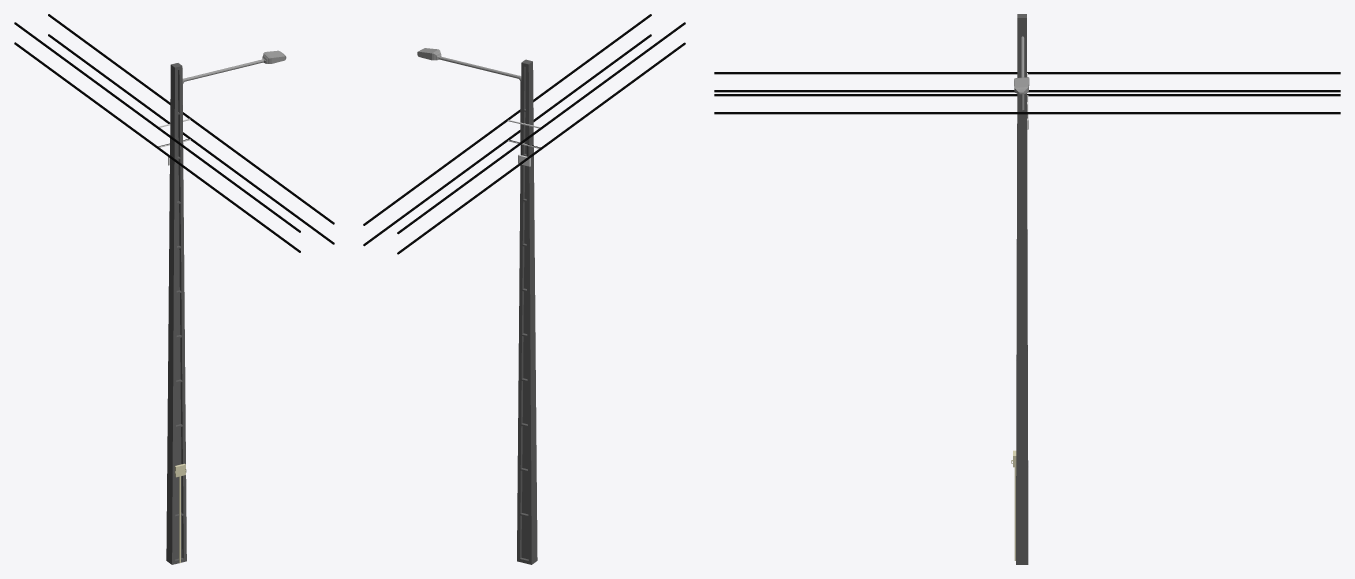
The model's file is PoteauTEst.fbx.
3 renders of one model, left to right at view 1: azimuth 30°, elevation 25°; view 2: azimuth 150°, elevation 25°; view 3: azimuth 270°, elevation 25°, orthographic. The views are drawn at different scales.
Parts seen in each view (by area): view 1: Cube, Cable.002, Cable.003, Cable.001, Cable; view 2: Cube, Cable.002, Cable.003, Cable.001, Cable; view 3: Cube, Cable, Cable.002, Cable.003, Cable.001.
Part boxes in pixels (x1,y1,x2,y2): Cube: [166, 63, 186, 564]; Cable.002: [14, 22, 300, 232]; Cable.003: [14, 42, 300, 252]; Cable.001: [48, 14, 334, 224]; Cable: [48, 34, 334, 244]; Cube: [517, 59, 537, 564]; Cable.002: [397, 22, 685, 234]; Cable.003: [397, 42, 685, 254]; Cable.001: [363, 14, 651, 225]; Cable: [363, 34, 651, 246]; Cube: [1016, 14, 1028, 564]; Cable: [714, 112, 1340, 114]; Cable.002: [714, 72, 1340, 74]; Cable.003: [714, 94, 1340, 96]; Cable.001: [714, 90, 1340, 92].
Size of the model in its own units: 255 by 960 by 1000.
